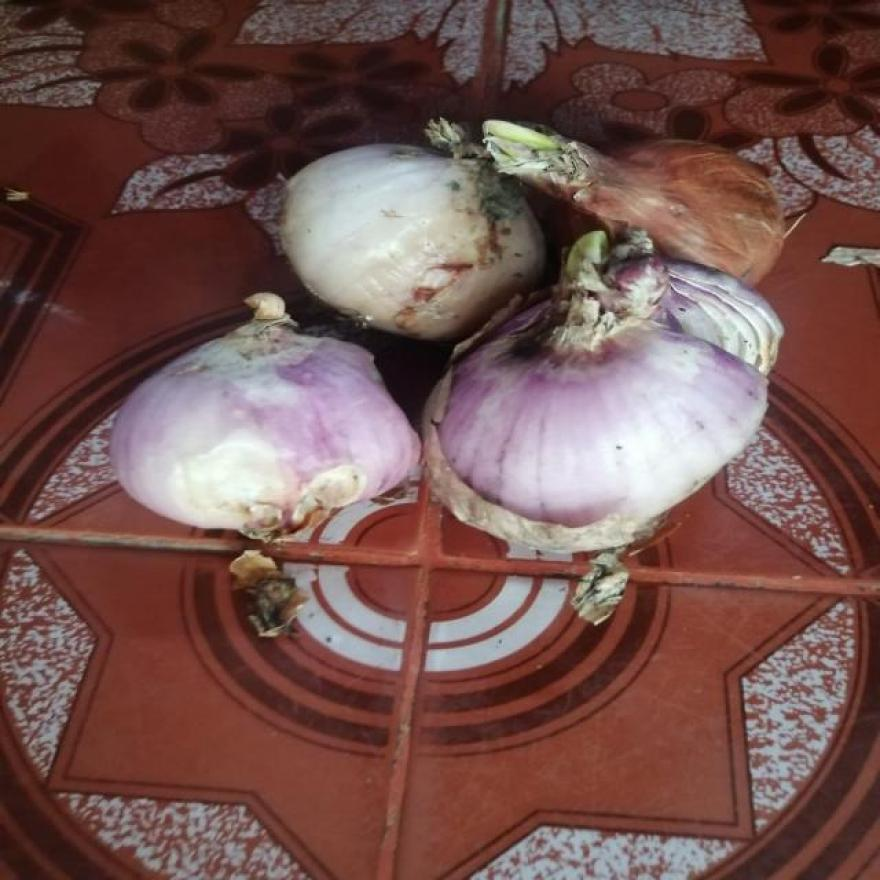Rotten: (436, 209, 513, 327)
Sprouted: (474, 120, 589, 182), (568, 233, 624, 318)
